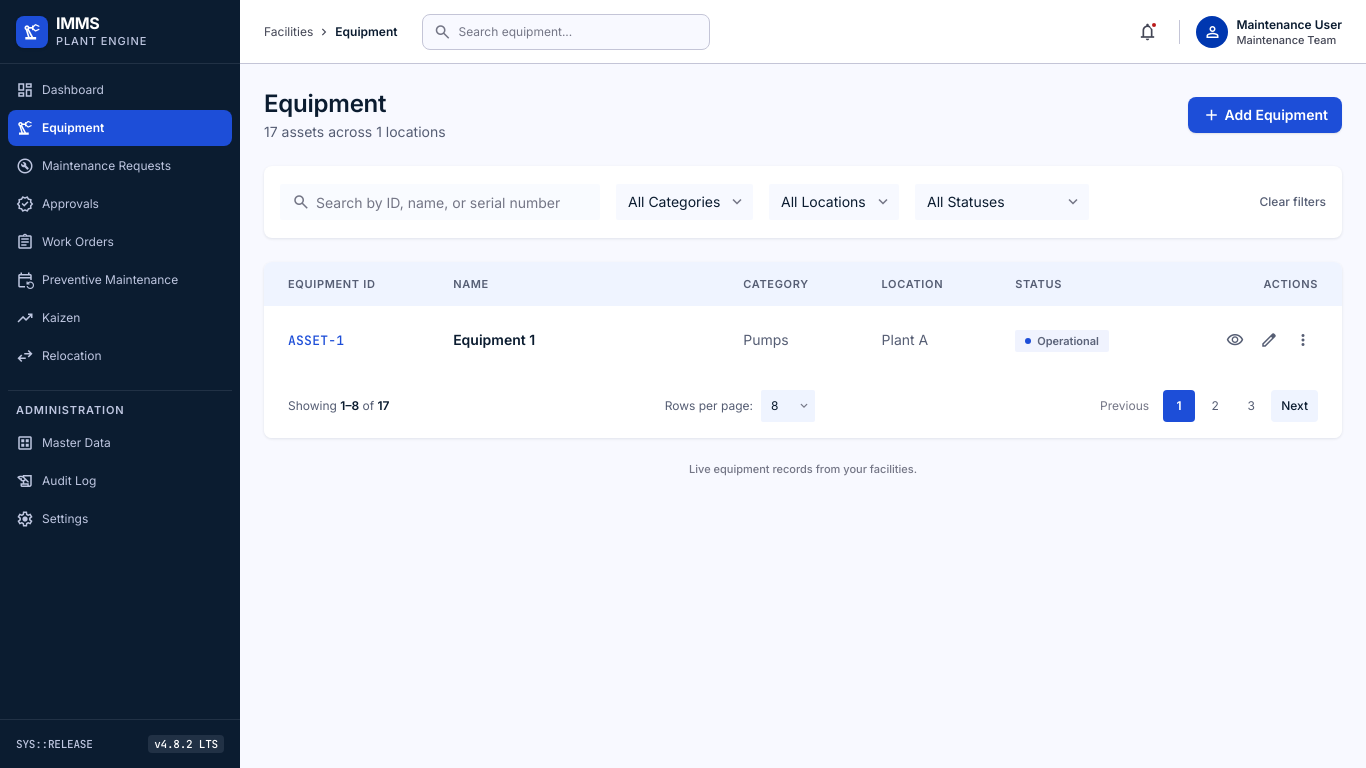
Scenario: EquipmentListPage › shows filtered totals and fetches the selected page
Check: the text "ASSET-1" is shown, box [288,332,344,349]
Step 1. Click the button "2" → click(1215, 406), box [1199,390,1231,422]
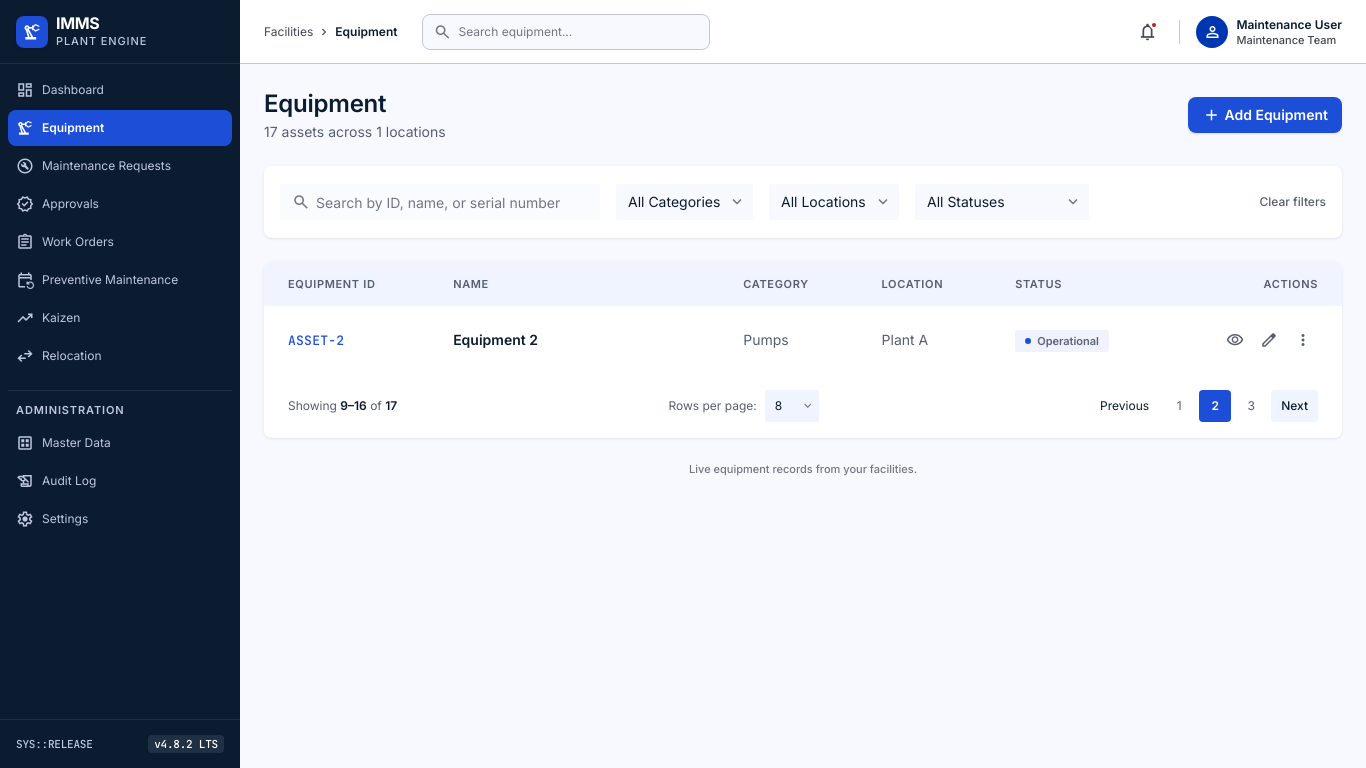
Check: the text "ASSET-2" is shown, box [288,332,344,349]
